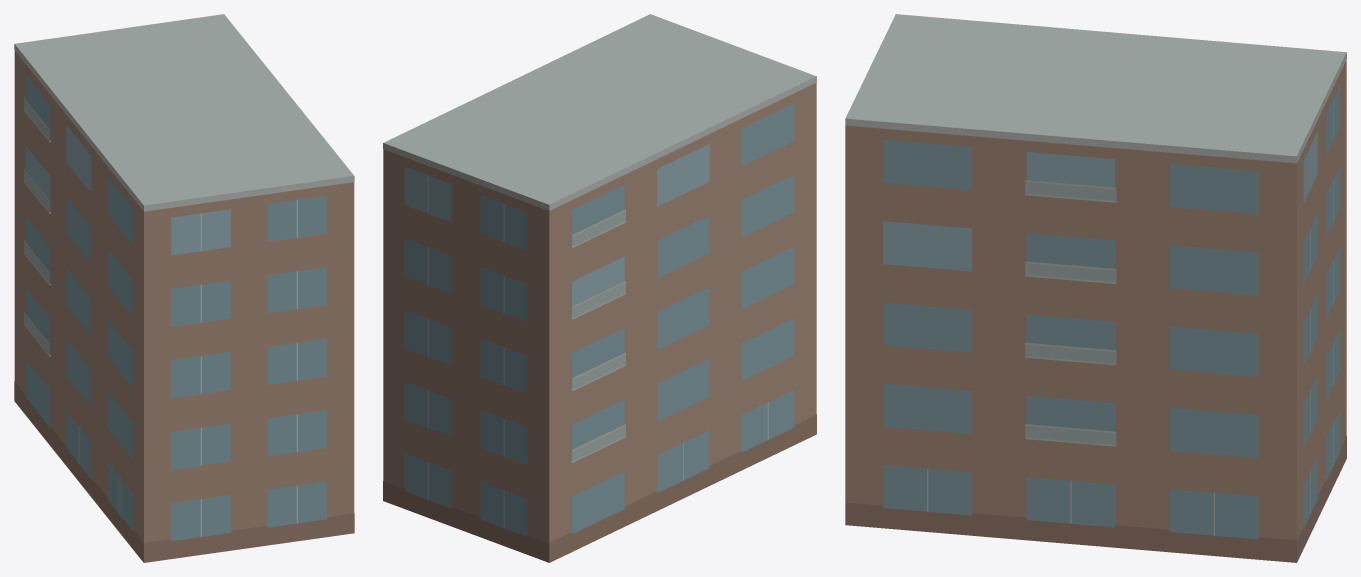
Rendered from survey-upis-32881838.glb.
3 renders of one model, left to right at view 1: azimuth 30°, elevation 25°; view 2: azimuth 150°, elevation 25°; view 3: azimuth 270°, elevation 25°, orthographic. The views are drawn at different scales.
Visible parts, largest first — view 1: survey-upis-32881838.tmp; view 2: survey-upis-32881838.tmp; view 3: survey-upis-32881838.tmp.
Part boxes in pixels (bbox=[...]): survey-upis-32881838.tmp: bbox=[14, 14, 354, 562]; survey-upis-32881838.tmp: bbox=[383, 14, 816, 562]; survey-upis-32881838.tmp: bbox=[845, 14, 1346, 562].
Size of the model in its own units: 10.75 by 14.3 by 16.
